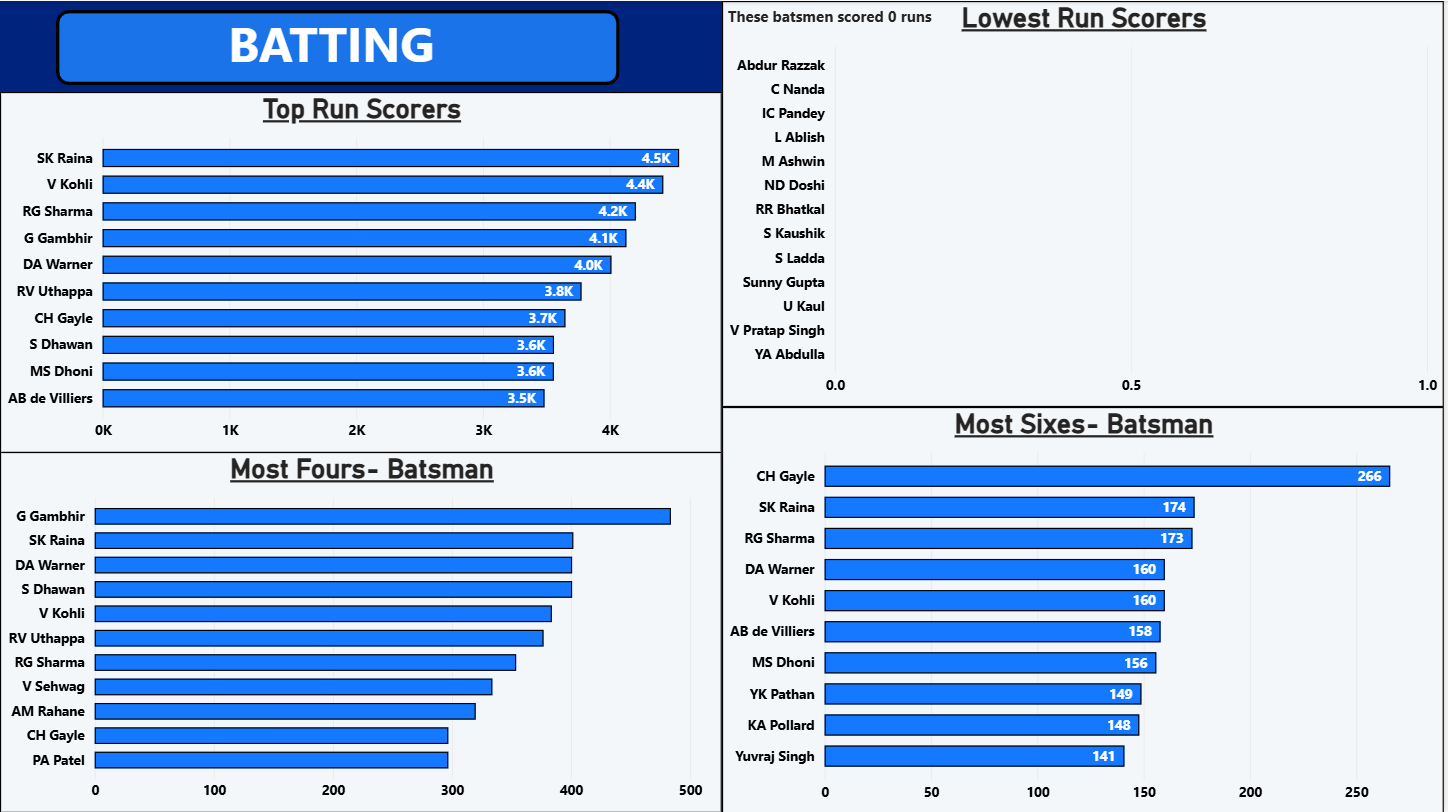

What the dashboard file says about the page in this screenshot:
{"tool":"powerbi","page":{"name":"Batting_Analysis","canvas":[1280,720],"ordinal":1},"visuals":[{"type":"clusteredBarChart","title":"Top Run Scorers","fields":{"Category":["deliveries csv.batsman"],"Y":["Measures (2).Total Batsman Runs"]},"box":[0,81,640,319.6],"z":0},{"type":"clusteredBarChart","title":"Most Fours- Batsman","fields":{"Category":["deliveries csv.batsman"],"Y":["Measures (2).Total Fours"]},"box":[0,400.3,640,319.6],"z":1000},{"type":"clusteredBarChart","title":"Most Sixes- Batsman ","fields":{"Category":["deliveries csv.batsman"],"Y":["Measures (2).Total Sixes"]},"box":[640.2,360,640.2,360],"z":2000},{"type":"clusteredBarChart","title":"Lowest Run Scorers","fields":{"Category":["deliveries csv.batsman"],"Y":["Measures (2).Total Batsman Runs"]},"box":[640,0,640,359.6],"z":3000},{"type":"shape","box":[49.7,8,499.8,66.6],"z":4000},{"type":"textbox","box":[196.7,2.7,205.6,76.6],"z":5000},{"type":"actionButton","box":[49.7,0,152.5,77.1],"z":6000},{"type":"actionButton","box":[384.2,0,165.3,73.9],"z":7000},{"type":"textbox","box":[640,0,211.8,40.1],"z":8000}]}

Visuals, with their boxes in screenshot pixels (x1, y1, x2, y2), scaled from the page's 1280x720 canvas onto the 1448x812 screenshot:
"Top Run Scorers" clusteredBarChart: pyautogui.locateOnScreen(0, 91, 724, 452)
"Most Fours- Batsman" clusteredBarChart: pyautogui.locateOnScreen(0, 451, 724, 811)
"Most Sixes- Batsman " clusteredBarChart: pyautogui.locateOnScreen(724, 406, 1447, 811)
"Lowest Run Scorers" clusteredBarChart: pyautogui.locateOnScreen(724, 0, 1447, 406)
shape: pyautogui.locateOnScreen(56, 9, 622, 84)
textbox: pyautogui.locateOnScreen(223, 3, 455, 89)
actionButton: pyautogui.locateOnScreen(56, 0, 229, 87)
actionButton: pyautogui.locateOnScreen(435, 0, 622, 83)
textbox: pyautogui.locateOnScreen(724, 0, 964, 45)
